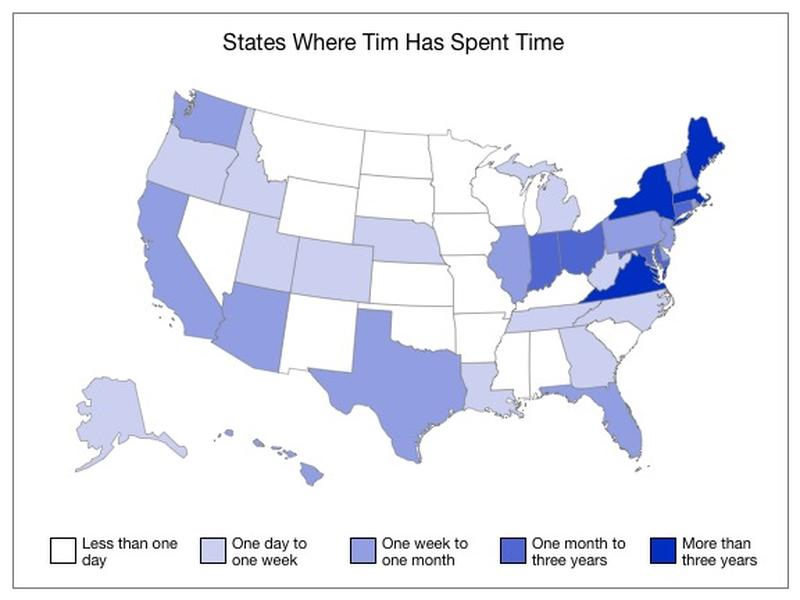legend: (48, 530, 761, 571)
